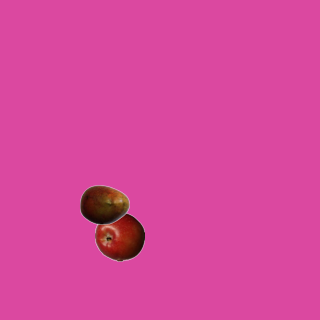Apple Braeburn: (94, 211, 144, 261)
Mango Red: (79, 179, 129, 229)
